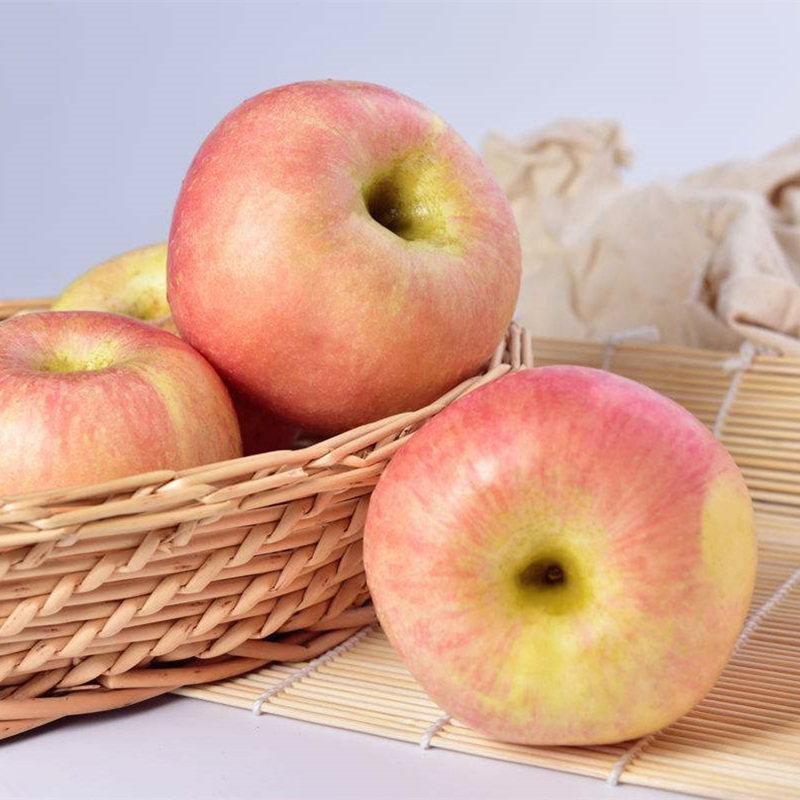apple: (37, 55, 585, 553), (372, 372, 769, 756), (1, 307, 244, 500)
